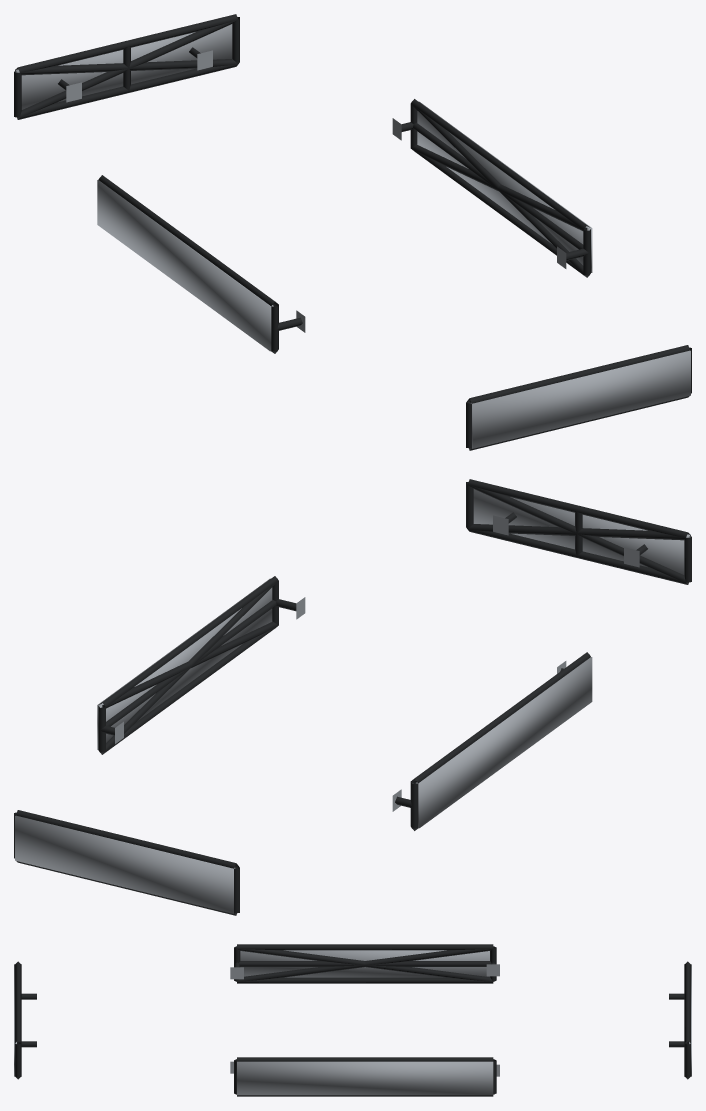
File: bancroft_relicario_protecao.glb
3 renders of one model, top to bottom at view 1: azimuth 30°, elevation 25°; view 2: azimuth 150°, elevation 25°; view 3: azimuth 270°, elevation 25°, orthographic. The views are drawn at different scales.
Parts seen in each view (by area): view 1: Protection_front_Level3_Details, Protection_left_Level3_Details, Protection_rear_Level3_Details, Protection_rear_Level1_Details, Protection_right_Level1_Details, Protection_right_Level2_Details, Protection_right_Level3_Details, Protection_rear_Level2_Details, Protection_front_Level1_Details, Protection_left_Level1_Details; view 2: Protection_rear_Level3_Details, Protection_left_Level3_Details, Protection_front_Level3_Details, Protection_front_Level1_Details, Protection_right_Level1_Details, Protection_right_Level2_Details, Protection_right_Level3_Details, Protection_front_Level2_Details, Protection_rear_Level1_Details, Protection_left_Level1_Details; view 3: Protection_right_Level3_Details, Protection_left_Level2_Details, Protection_left_Level1_Details, Protection_left_Level3_Details, Protection_right_Level1_Details, Protection_rear_Level1_Details, Protection_front_Level1_Details.
Boxes of the visible parts, x1,y1,x2,y2 form: Protection_front_Level3_Details: (470, 350, 690, 448); Protection_left_Level3_Details: (97, 180, 273, 351); Protection_rear_Level3_Details: (15, 24, 232, 109); Protection_rear_Level1_Details: (14, 14, 239, 119); Protection_right_Level1_Details: (392, 99, 590, 277); Protection_right_Level2_Details: (411, 104, 589, 277); Protection_right_Level3_Details: (417, 101, 592, 272); Protection_rear_Level2_Details: (16, 20, 237, 118); Protection_front_Level1_Details: (466, 345, 691, 450); Protection_left_Level1_Details: (98, 175, 305, 353); Protection_rear_Level3_Details: (15, 815, 235, 913); Protection_left_Level3_Details: (415, 657, 592, 828); Protection_front_Level3_Details: (473, 489, 690, 574); Protection_front_Level1_Details: (466, 479, 691, 584); Protection_right_Level1_Details: (98, 576, 305, 754); Protection_right_Level2_Details: (99, 582, 278, 754); Protection_right_Level3_Details: (97, 578, 272, 749); Protection_front_Level2_Details: (468, 485, 689, 583); Protection_rear_Level1_Details: (14, 810, 239, 915); Protection_left_Level1_Details: (392, 652, 590, 830); Protection_right_Level3_Details: (237, 1061, 493, 1095); Protection_left_Level2_Details: (237, 949, 492, 981); Protection_left_Level1_Details: (230, 944, 499, 983); Protection_left_Level3_Details: (240, 950, 489, 977); Protection_right_Level1_Details: (230, 1057, 499, 1096); Protection_rear_Level1_Details: (669, 961, 690, 1079); Protection_front_Level1_Details: (15, 961, 36, 1079).
Size of the model in its own units: 2.26 by 0.354 by 5.56.
Materials: 1 (1 with a texture image).
